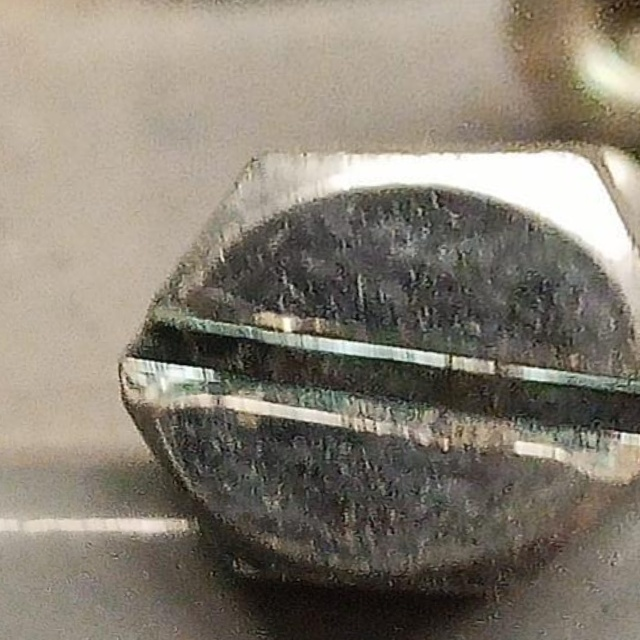duz: (106, 123, 640, 609)
